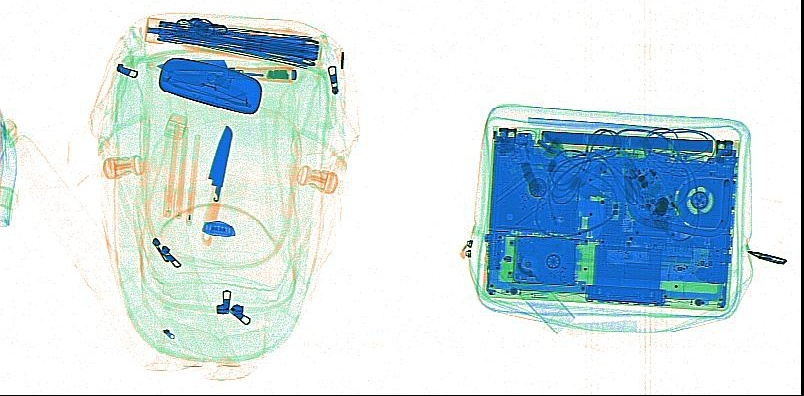knife: (155, 59, 296, 87), (201, 124, 233, 247), (543, 157, 618, 209)
